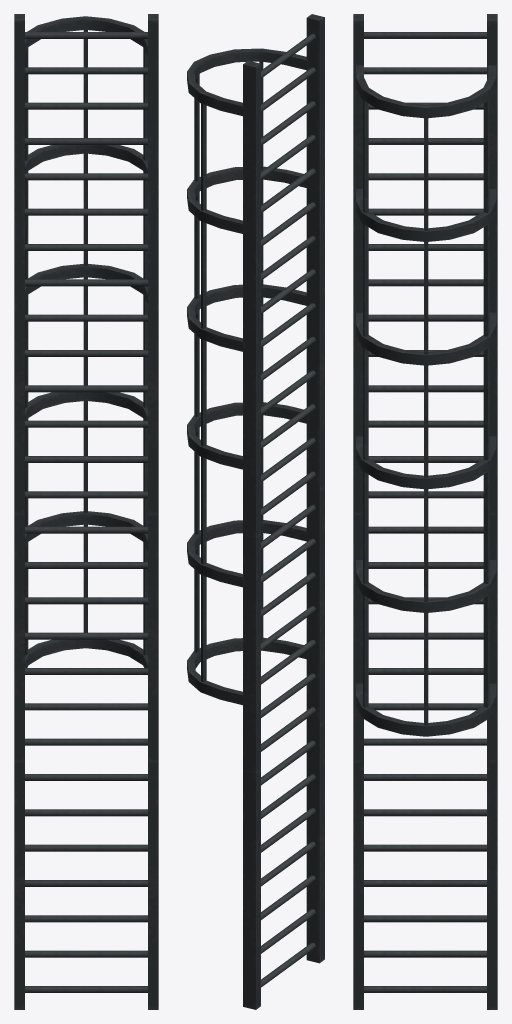
The model's file is Ladder_Top.fbx.
The picture shows the model from 3 angles, left to right: view 1: azimuth 90°, elevation 25°; view 2: azimuth 150°, elevation 25°; view 3: azimuth 270°, elevation 25°; orthographic projection. The views are drawn at different scales.
Visible parts, largest first — view 1: Ladder_Top_LOD0; view 2: Ladder_Top_LOD0; view 3: Ladder_Top_LOD0.
Boxes of the visible parts, x1=… form: Ladder_Top_LOD0: x1=14, y1=14, x2=158, y2=1009; Ladder_Top_LOD0: x1=187, y1=14, x2=324, y2=1009; Ladder_Top_LOD0: x1=353, y1=14, x2=497, y2=1009.
Size of what is drawn, in the model's own units: 42.69 by 400 by 53.
